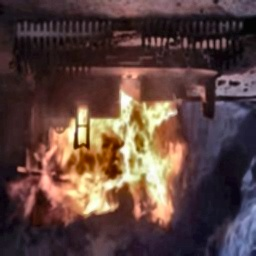fire: (25, 108, 183, 230)
